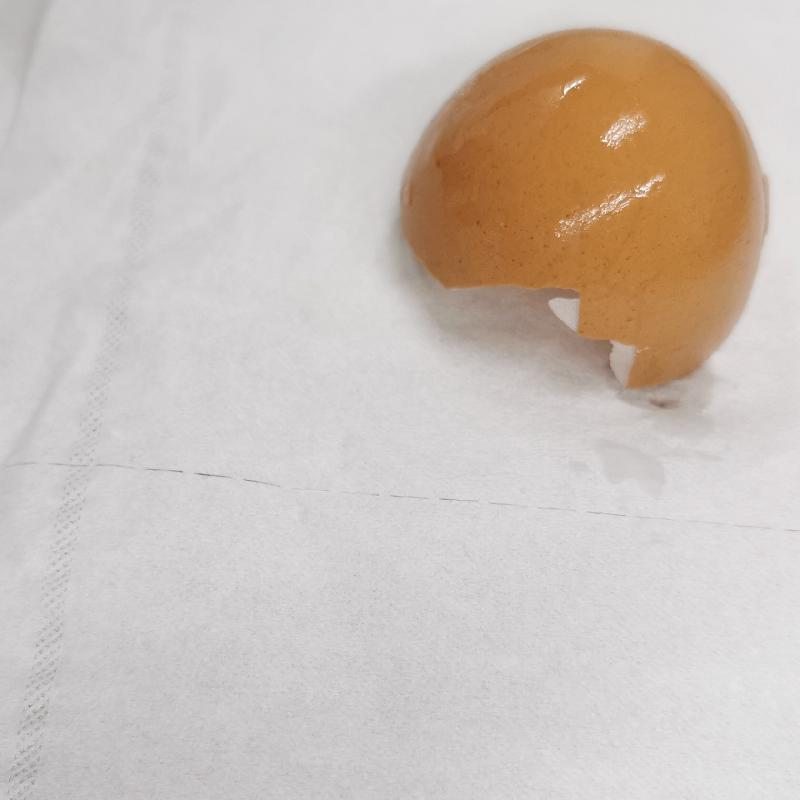eggshell: (399, 26, 775, 392)
